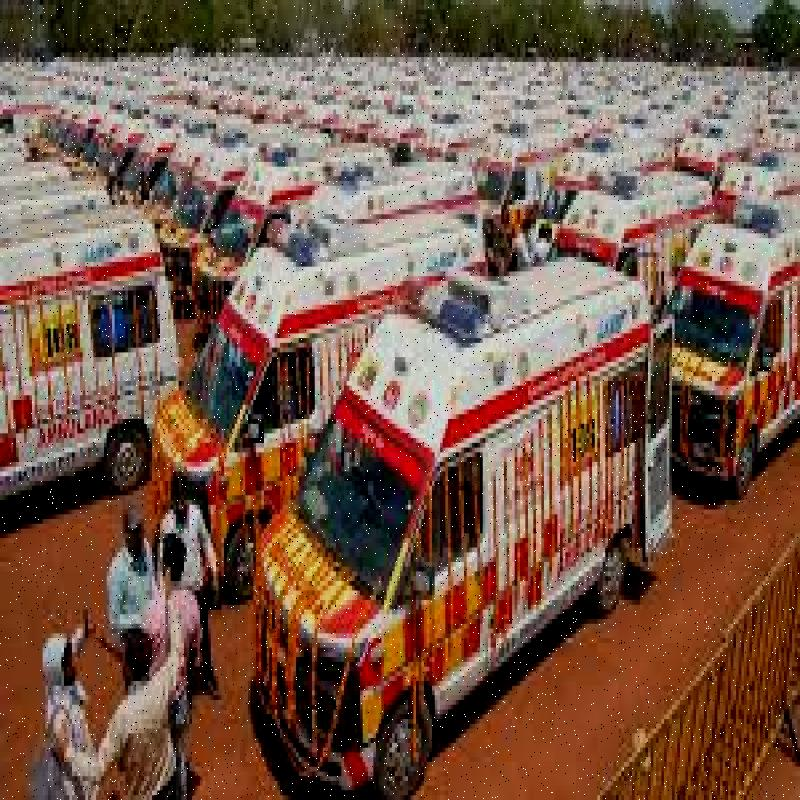AmbulanceSiren: (400, 254, 481, 362), (702, 167, 774, 255), (265, 195, 317, 280)
ambulance: (235, 276, 678, 790), (141, 228, 507, 577), (0, 212, 185, 550), (665, 194, 799, 512)
